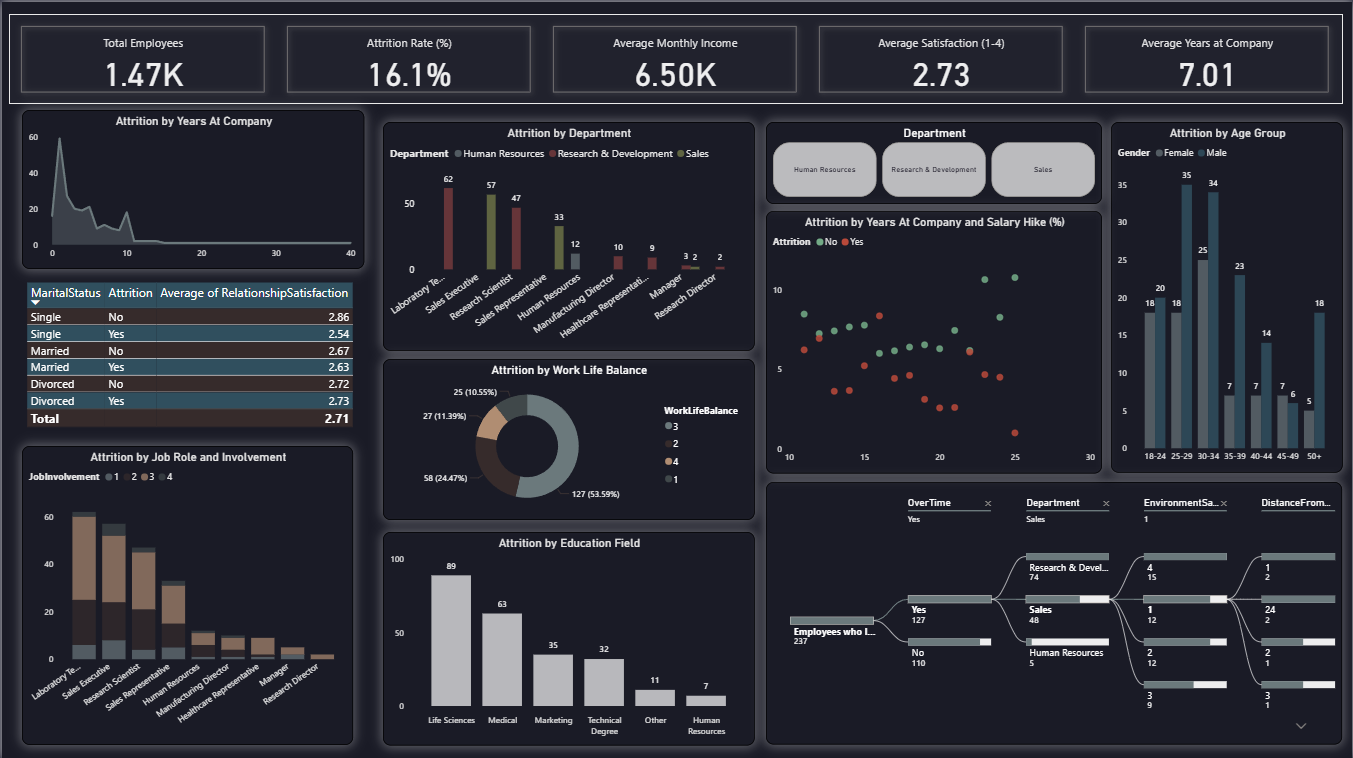

This screenshot's page, from the dashboard's own definition file:
{"tool":"powerbi","page":{"name":"Page 1","canvas":[1929,1080],"ordinal":0},"visuals":[{"type":"cardVisual","fields":{"Data":["EmployeeAttritionData.Total Employees","EmployeeAttritionData.Attrition Rate (%)","EmployeeAttritionData.Average Monthly Income","EmployeeAttritionData.Average Job Satisfaction","EmployeeAttritionData.Average Years at Company"]},"box":[10.1,16.5,1905.1,129.1],"z":0},{"type":"clusteredColumnChart","title":"Attrition by Department","fields":{"Category":["EmployeeAttritionData.JobRole"],"Y":["EmployeeAttritionData.Total Employees"],"Series":["EmployeeAttritionData.Department"]},"box":[544,171.6,530.7,327.2],"z":1000},{"type":"clusteredColumnChart","title":"Attrition by Age Group","fields":{"Category":["EmployeeAttritionData.Age Group"],"Series":["EmployeeAttritionData.Gender"],"Y":["EmployeeAttritionData.Total Employees"]},"box":[1584.1,171.6,331.2,501.4],"z":2000},{"type":"stackedAreaChart","title":"Attrition by Years At Company","fields":{"Category":["EmployeeAttritionData.YearsAtCompany"],"Y":["CountNonNull(EmployeeAttritionData.Attrition)"]},"box":[27.9,154.3,489.5,227.4],"z":3000},{"type":"tableEx","fields":{"Values":["EmployeeAttritionData.MaritalStatus","EmployeeAttritionData.Attrition","Avg(EmployeeAttritionData.RelationshipSatisfaction)"]},"box":[30.6,395,486.8,228.8],"z":4000},{"type":"clusteredColumnChart","title":"Attrition by Education Field","fields":{"Category":["EmployeeAttritionData.EducationField"],"Y":["CountNonNull(EmployeeAttritionData.EmployeeNumber)"]},"box":[544,756.8,530.7,304.6],"z":5000},{"type":"decompositionTreeVisual","fields":{"Analyze":["EmployeeAttritionData.Employees who left"],"ExplainBy":["EmployeeAttritionData.OverTime","EmployeeAttritionData.Department","EmployeeAttritionData.EnvironmentSatisfaction","EmployeeAttritionData.DistanceFromHome"]},"box":[1092,686.3,823.3,375.1],"z":6000},{"type":"donutChart","title":"Attrition by Work Life Balance","fields":{"Category":["EmployeeAttritionData.WorkLifeBalance"],"Y":["Sum(EmployeeAttritionData.EmployeeCount)"]},"box":[544,509.4,530.7,230.1],"z":7000},{"type":"scatterChart","title":"Attrition by Years At Company and Salary Hike (%)","fields":{"X":["EmployeeAttritionData.PercentSalaryHike"],"Y":["Avg(EmployeeAttritionData.YearsAtCompany)"],"Series":["EmployeeAttritionData.Attrition"]},"box":[1092,297.9,480.1,375.1],"z":8000},{"type":"columnChart","title":"Attrition by Job Role and Involvement","fields":{"Category":["EmployeeAttritionData.JobRole"],"Y":["CountNonNull(EmployeeAttritionData.EmployeeCount)"],"Series":["EmployeeAttritionData.JobInvolvement"]},"box":[27.9,634.4,473.5,426.9],"z":9000},{"type":"advancedSlicerVisual","fields":{"Values":["EmployeeAttritionData.Department"]},"box":[1092,171.6,480.1,117],"z":10000}]}

Visuals, with their boxes in screenshot pixels (x1, y1, x2, y2), scaled from the page's 1929x1080 canvas onto the 1353x758 screenshot:
cardVisual - EmployeeAttritionData.Total Employees x EmployeeAttritionData.Attrition Rate (%): x1=7, y1=12, x2=1343, y2=102
"Attrition by Department" clusteredColumnChart: x1=382, y1=120, x2=754, y2=350
"Attrition by Age Group" clusteredColumnChart: x1=1111, y1=120, x2=1343, y2=472
"Attrition by Years At Company" stackedAreaChart: x1=20, y1=108, x2=363, y2=268
tableEx - EmployeeAttritionData.MaritalStatus x EmployeeAttritionData.Attrition: x1=21, y1=277, x2=363, y2=438
"Attrition by Education Field" clusteredColumnChart: x1=382, y1=531, x2=754, y2=745
decompositionTreeVisual - EmployeeAttritionData.Employees who left x EmployeeAttritionData.OverTime: x1=766, y1=482, x2=1343, y2=745
"Attrition by Work Life Balance" donutChart: x1=382, y1=358, x2=754, y2=519
"Attrition by Years At Company and Salary Hike (%)" scatterChart: x1=766, y1=209, x2=1103, y2=472
"Attrition by Job Role and Involvement" columnChart: x1=20, y1=445, x2=352, y2=745
advancedSlicerVisual - EmployeeAttritionData.Department: x1=766, y1=120, x2=1103, y2=203
